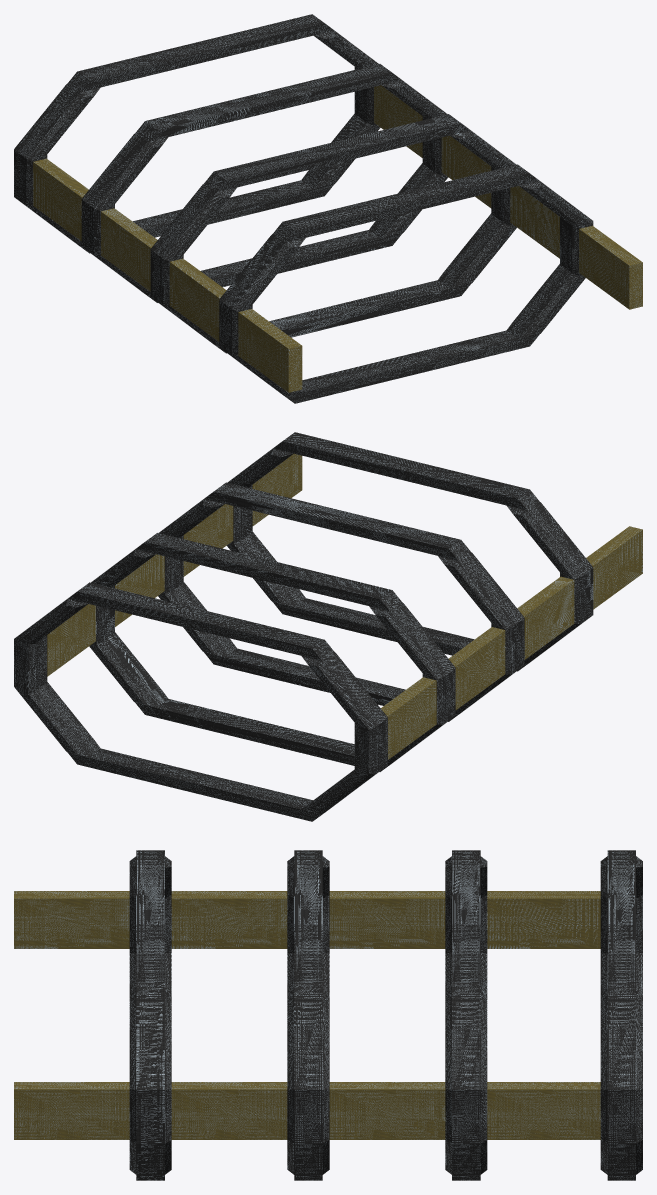
The picture shows the model from 3 angles, top to bottom: view 1: azimuth 30°, elevation 25°; view 2: azimuth 150°, elevation 25°; view 3: azimuth 270°, elevation 25°; orthographic projection. The views are drawn at different scales.
Parts seen in each view (by area): view 1: SketchUp (×6); view 2: SketchUp (×6); view 3: SketchUp (×6).
Part boxes in pixels (box(x1,y1,x2,y2)): SketchUp (×6): box(14, 14, 642, 403); SketchUp (×6): box(14, 432, 642, 821); SketchUp (×6): box(14, 850, 642, 1180).
Size of the model in its own units: 38961 by 51136 by 17813.
Materials: 3 (2 with a texture image).
